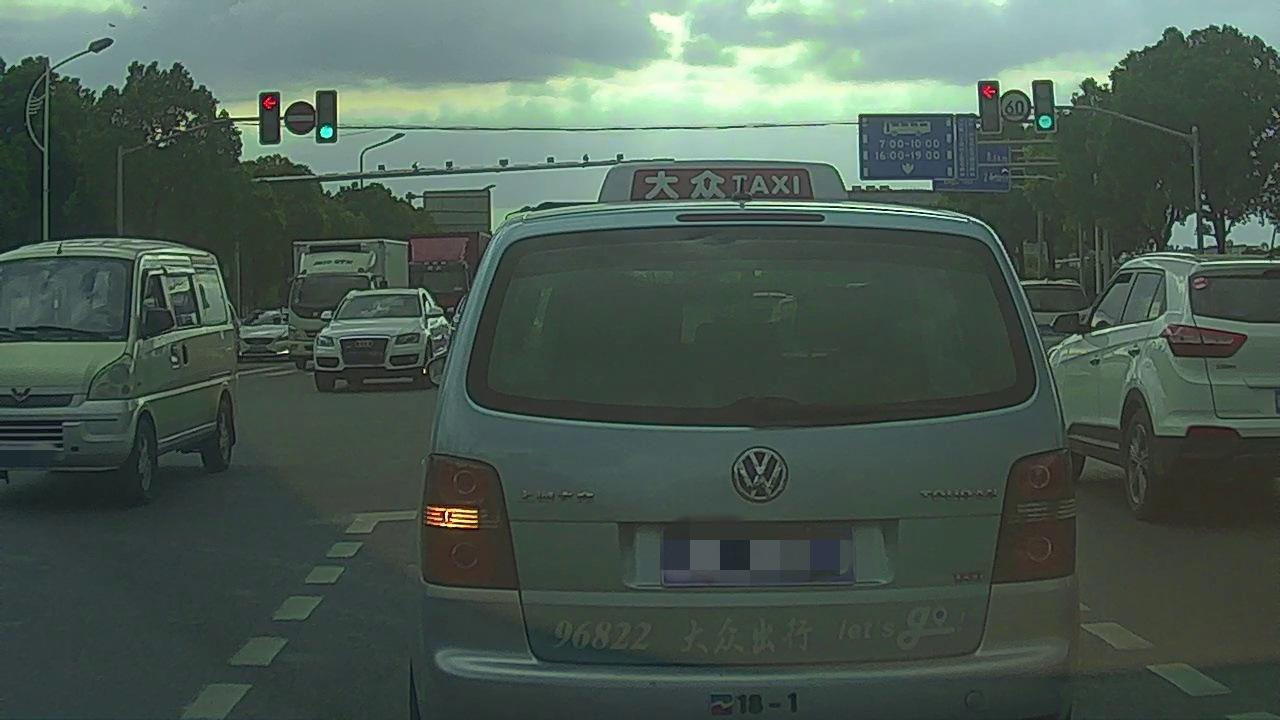traffic_light: (976, 81, 1003, 134), (1031, 81, 1056, 134), (320, 88, 338, 141), (261, 92, 279, 143)
